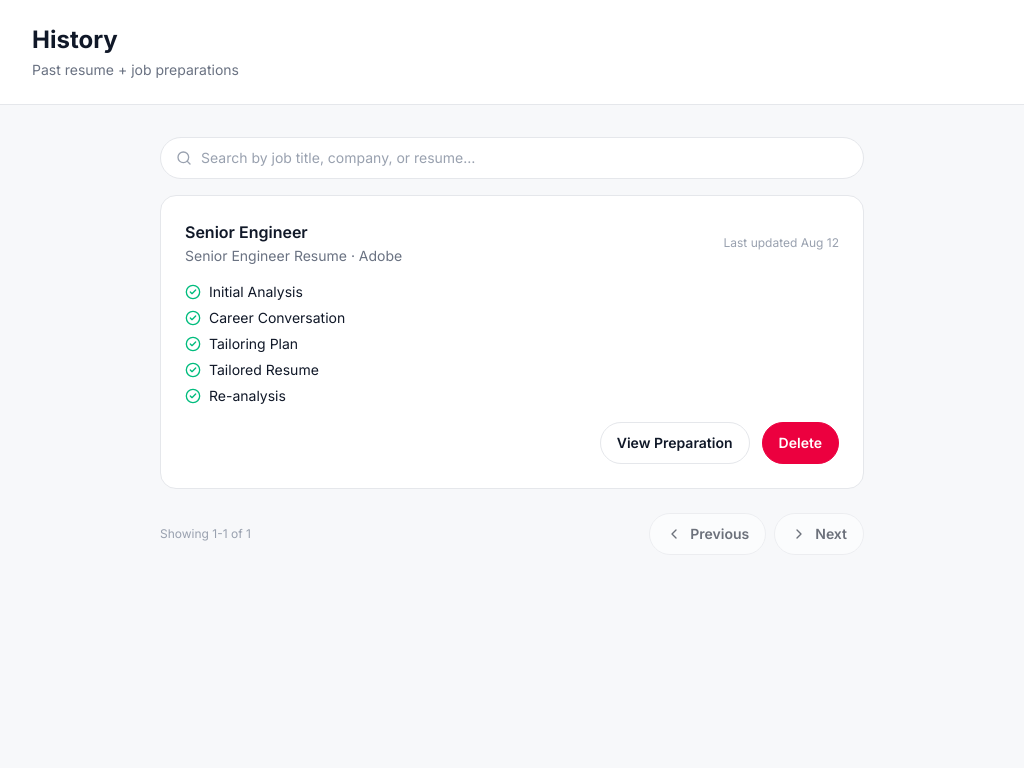
HistoryPage › shows a no-match state when the search query matches nothing
The width and height of the screenshot is (1024, 768).
expect the heading "Senior Engineer" is shown: met, box top-left (185, 222), bottom-right (308, 242)
Type "nonexistent role" into the field named "search job preparations".
click(512, 158); type("nonexistent role")  # box top-left (160, 137), bottom-right (864, 179)
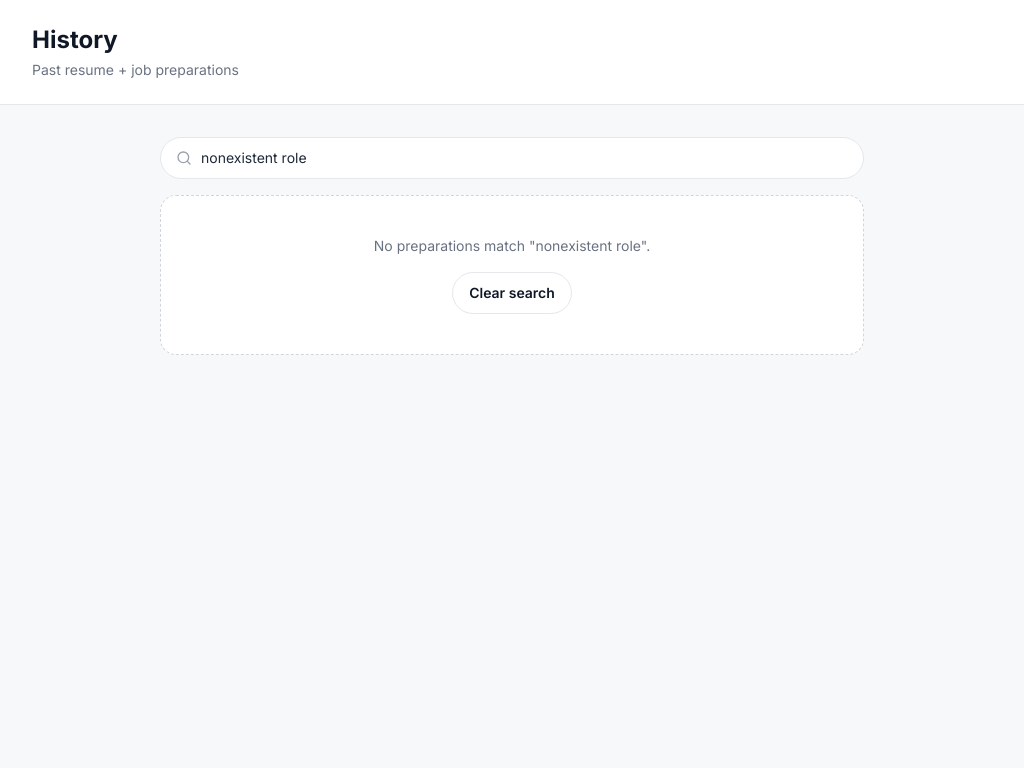
expect the text "No preparations match \"nonexistent role\"." is shown: met, box top-left (374, 237), bottom-right (650, 254)
